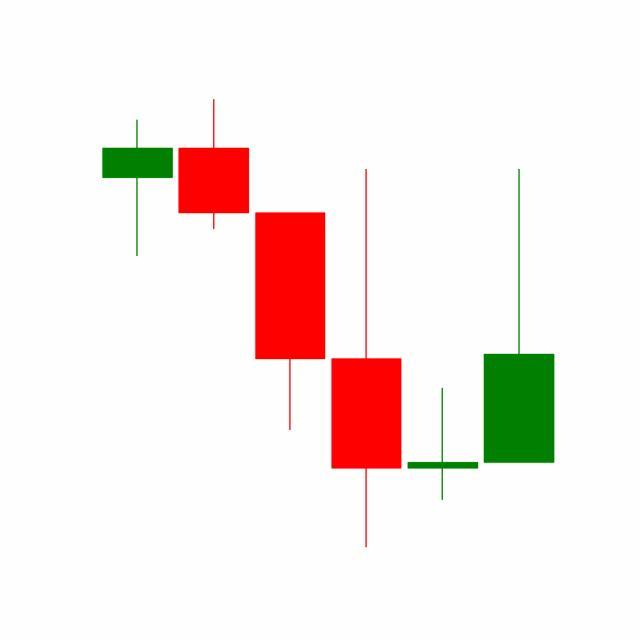Spinning Top: (404, 386, 482, 502)
